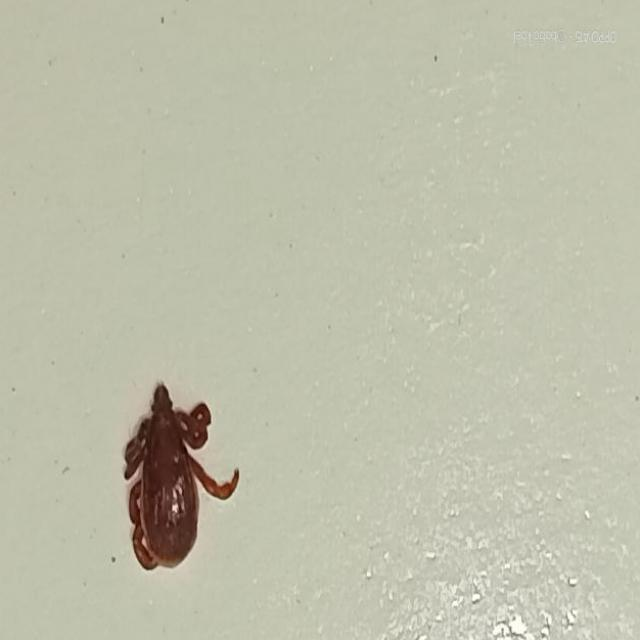Rhipicephalus Sanguineus-M: (122, 381, 242, 570)
